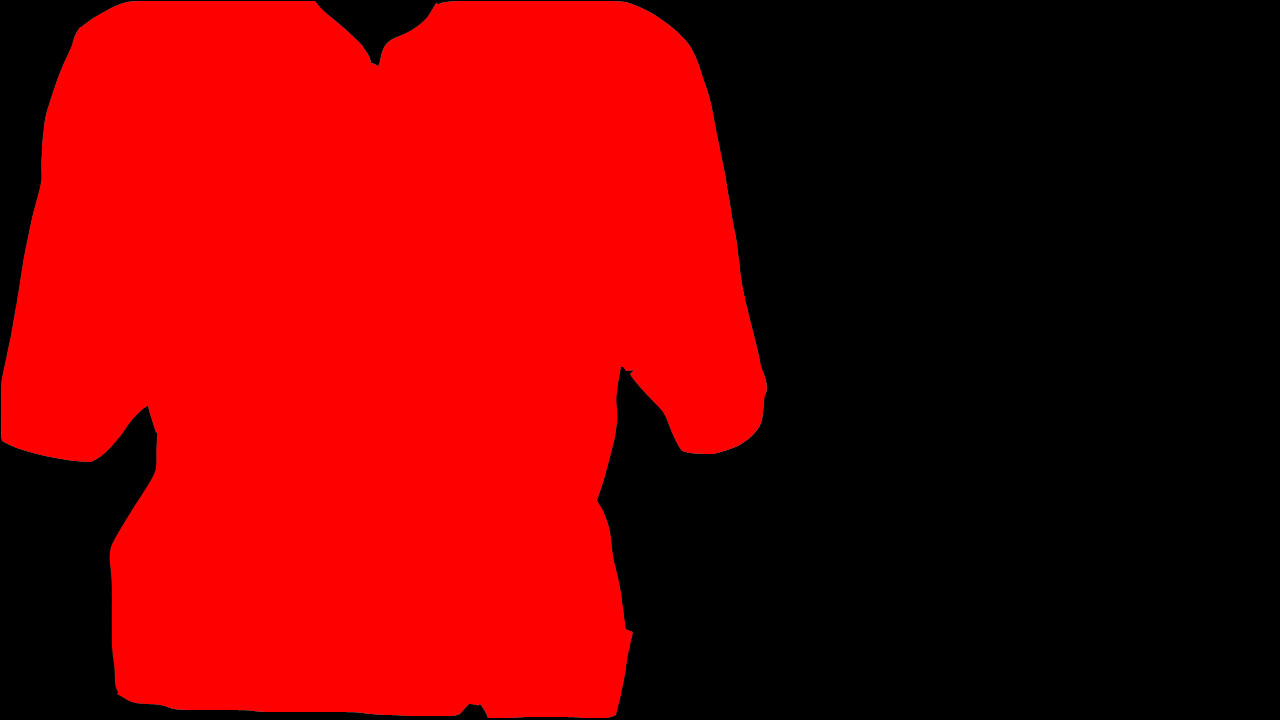uniforme_ifmt: (6, 1, 762, 717)
